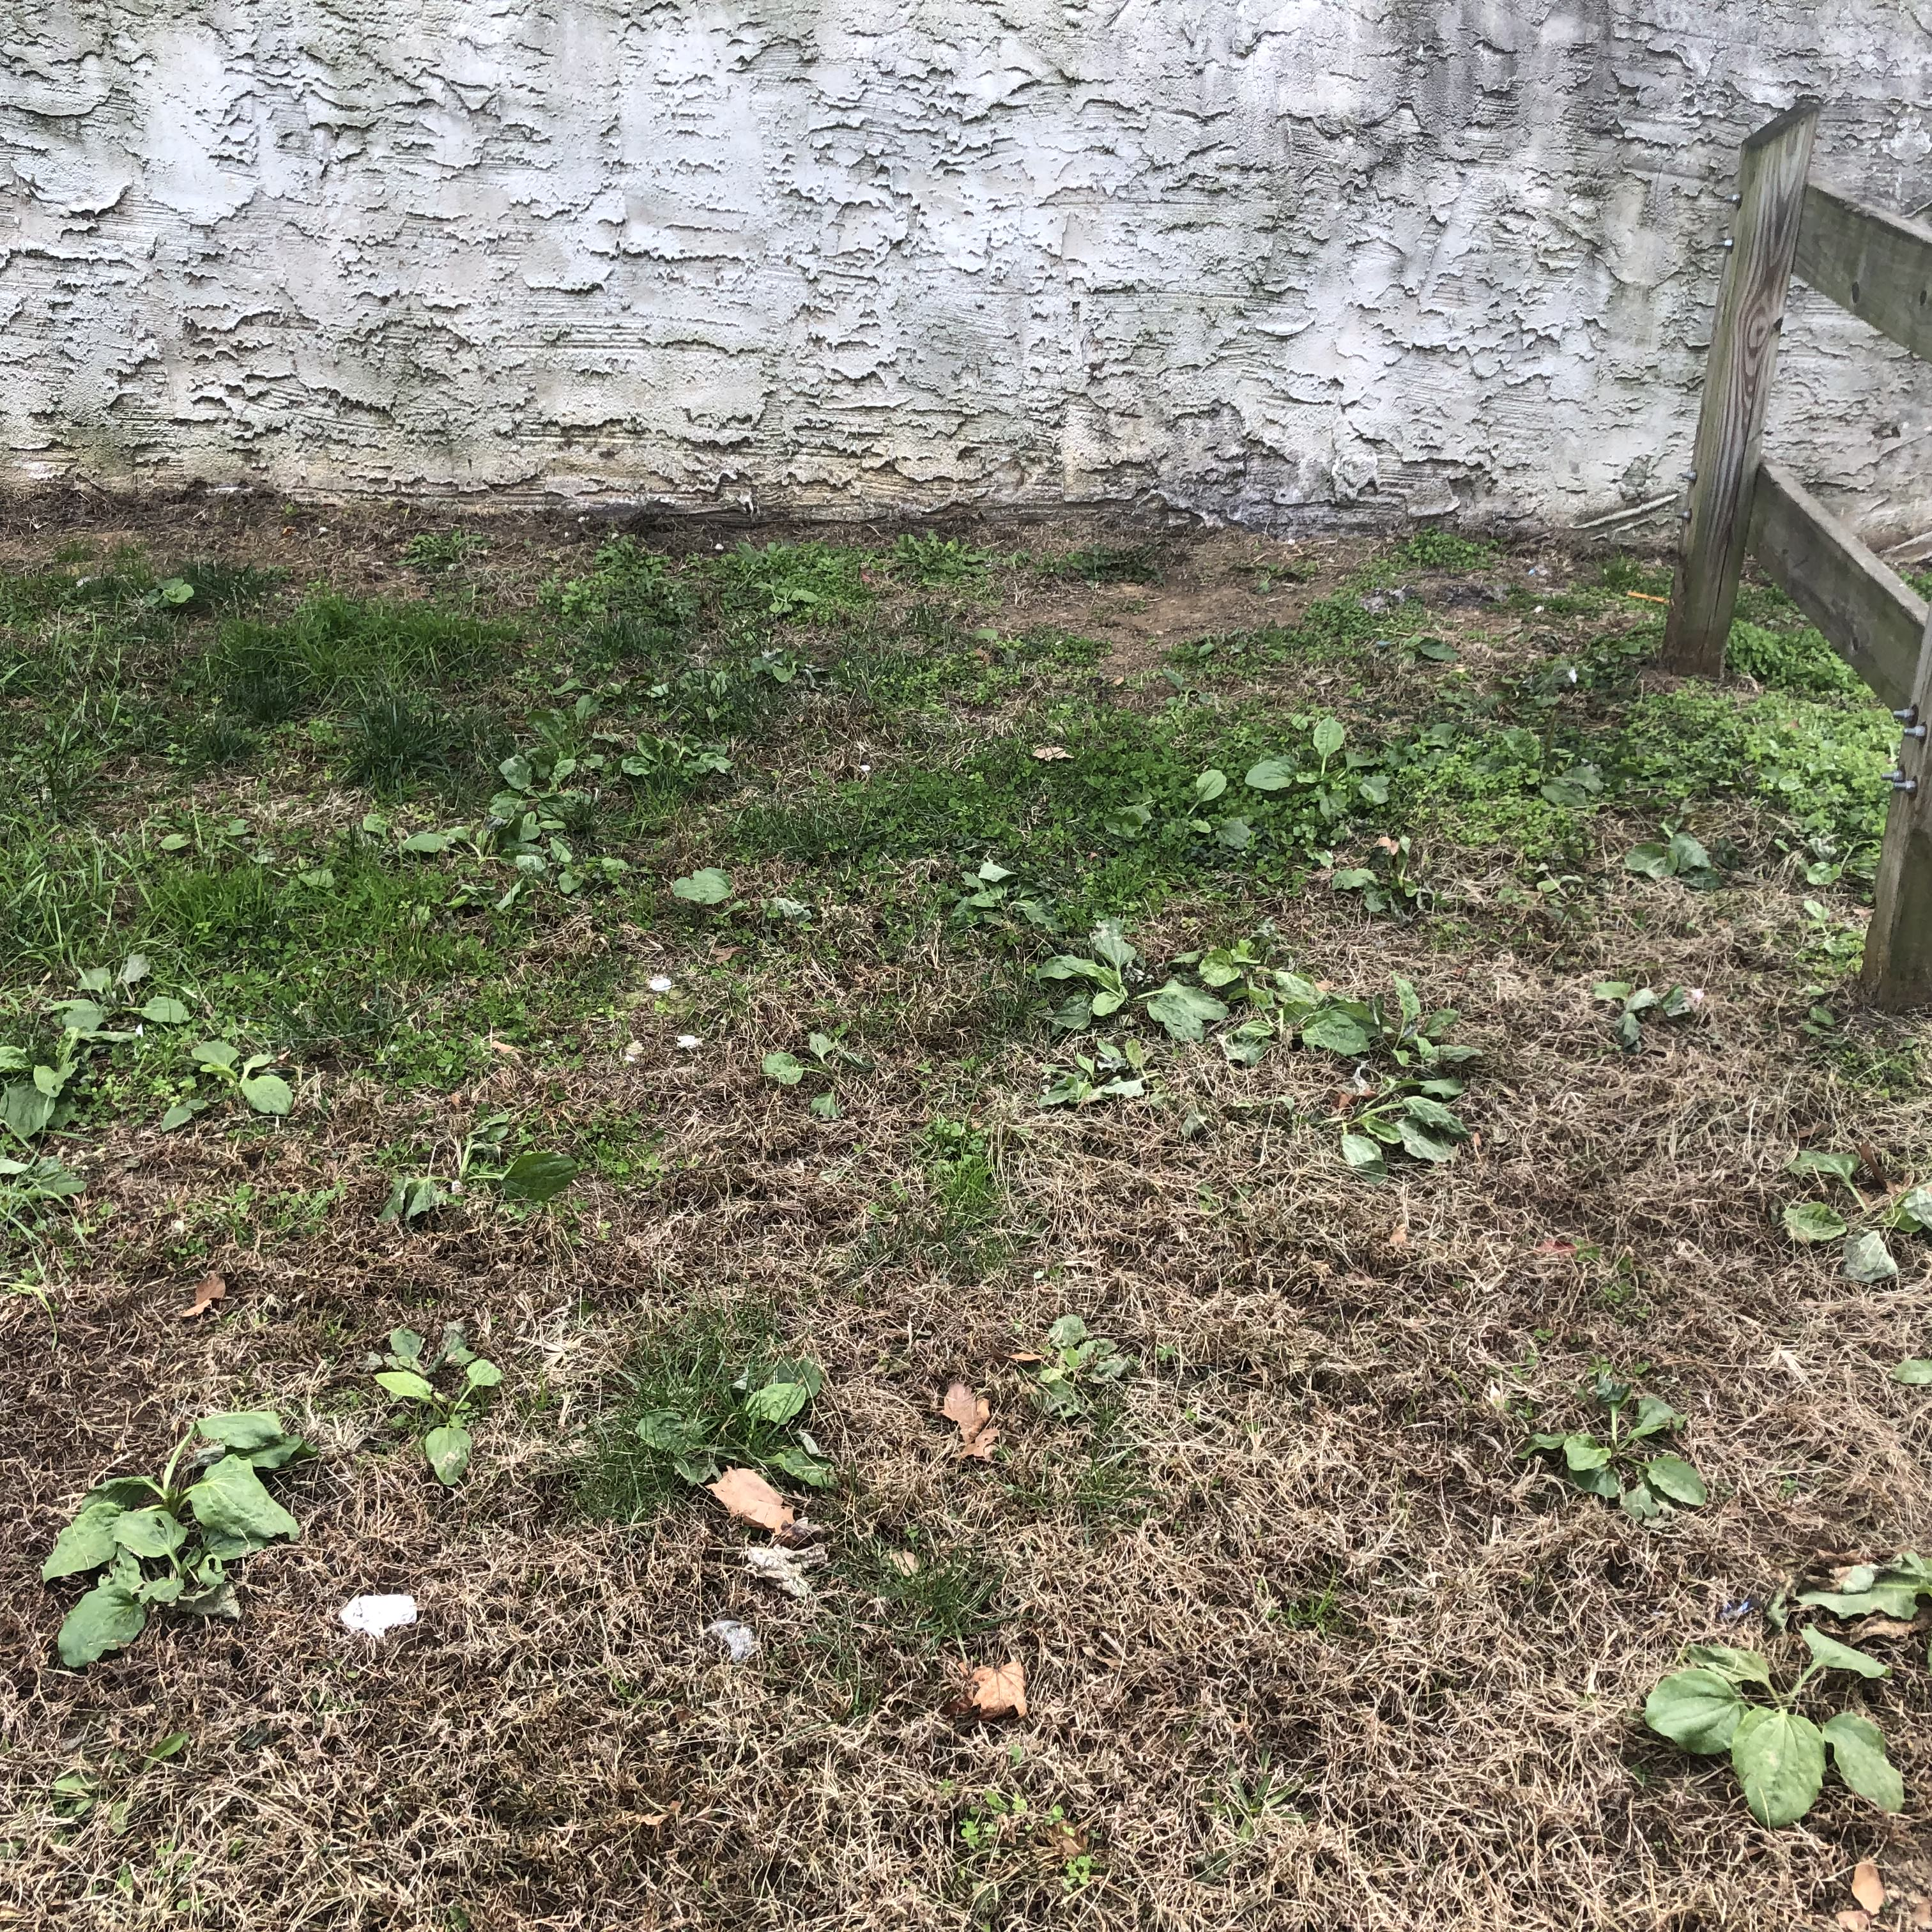good_lawn: (117, 580, 1640, 1520)
rough_lawn: (414, 1237, 1902, 1854)
